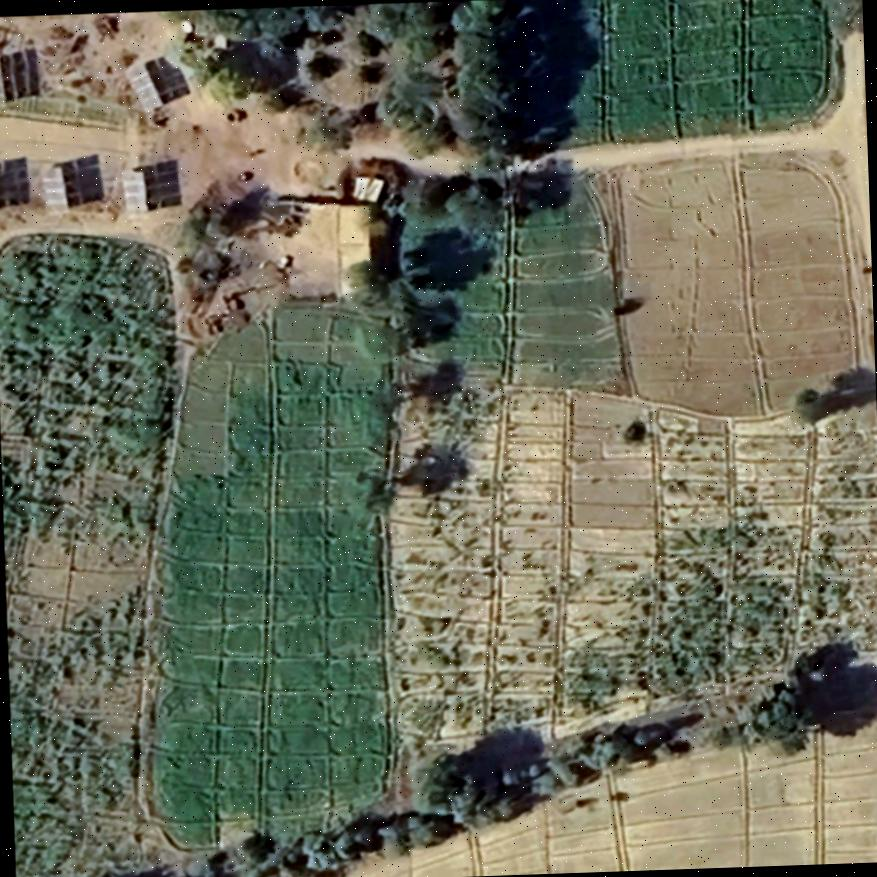Solarpanel: (114, 55, 168, 117), (117, 170, 153, 224), (35, 165, 70, 213), (0, 52, 9, 111)
